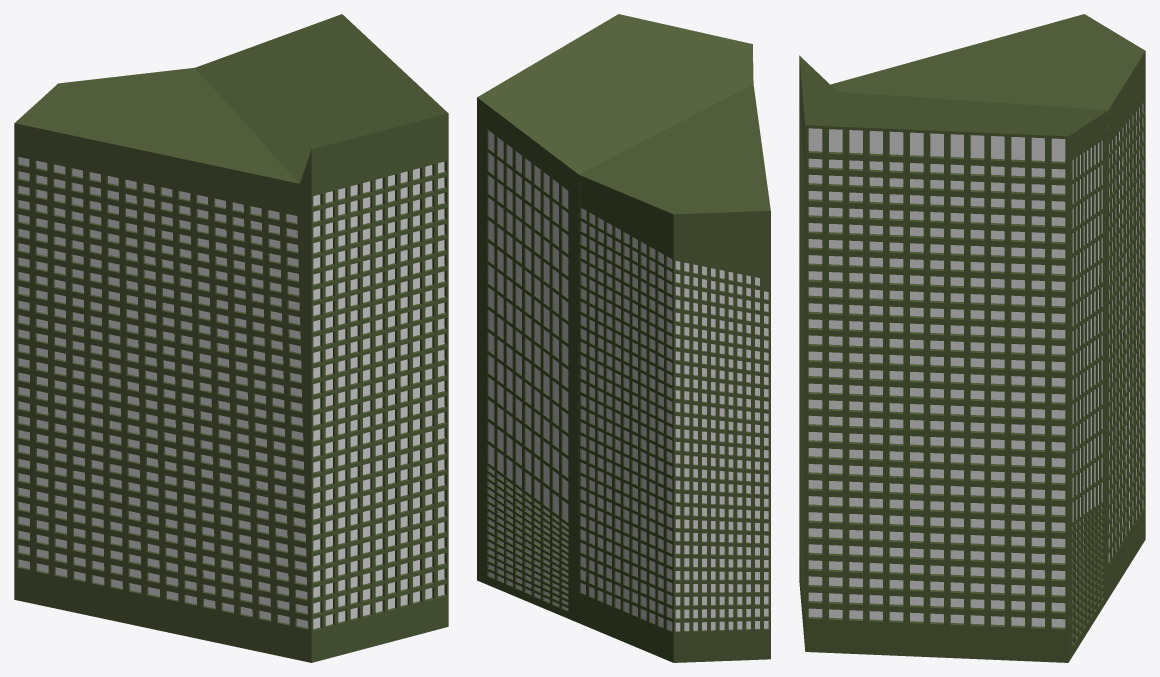
File: WestminsterxFrancisco.fbx
3 views of the same model, side by side, from view 1: azimuth 30°, elevation 25°; view 2: azimuth 150°, elevation 25°; view 3: azimuth 270°, elevation 25° (orthographic). The views are drawn at different scales.
Parts seen in each view (by area): view 1: WestminsterxFrancisco; view 2: WestminsterxFrancisco; view 3: WestminsterxFrancisco.
Part boxes in pixels (bbox=[...]): WestminsterxFrancisco: bbox=[14, 14, 448, 662]; WestminsterxFrancisco: bbox=[477, 14, 770, 662]; WestminsterxFrancisco: bbox=[799, 14, 1145, 662].
Size of the model in its own units: 5869 by 9000 by 5361.
